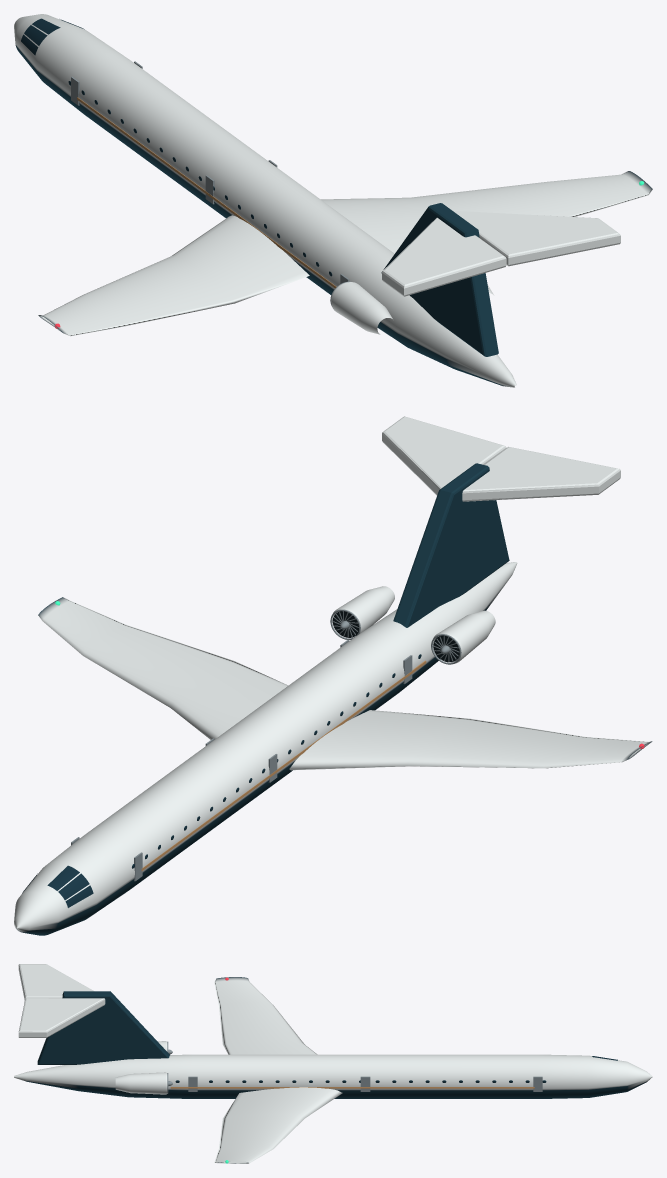
The model's file is CRJ9.glb.
The picture shows the model from 3 angles, top to bottom: view 1: azimuth 30°, elevation 25°; view 2: azimuth 150°, elevation 25°; view 3: azimuth 270°, elevation 25°; orthographic projection. The views are drawn at different scales.
Bounding box in the file's own units: 24.85 × 6.42 × 36.4.
